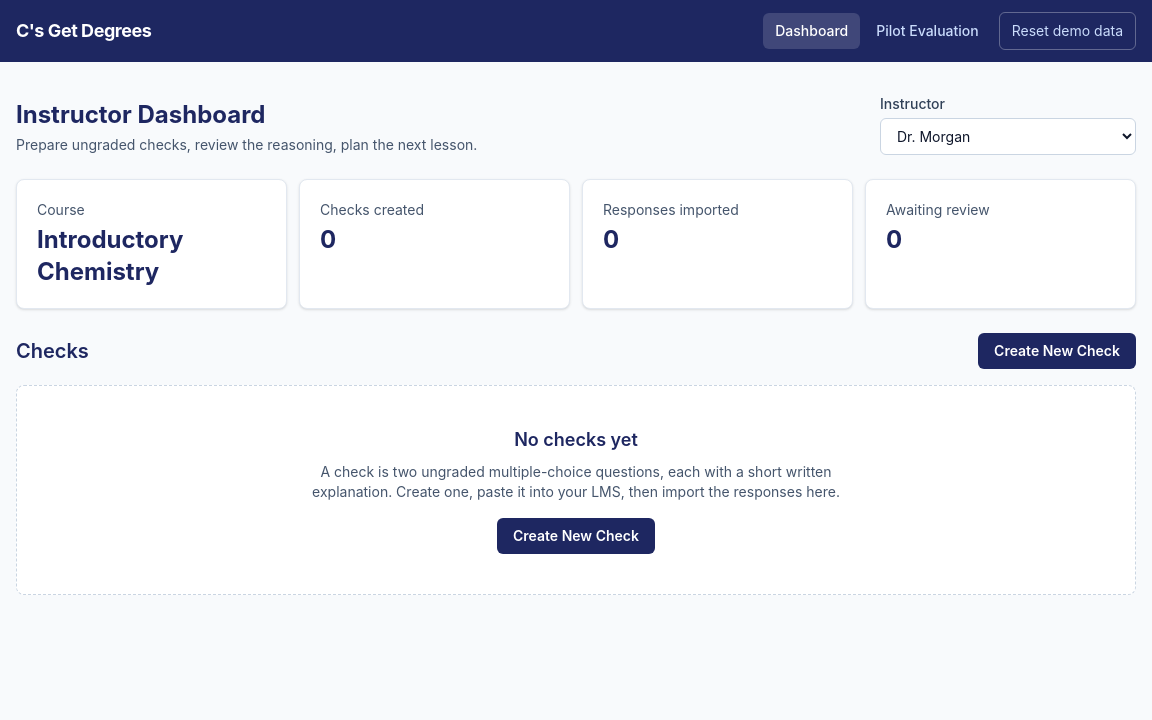
Scenario: Reset demo data asks for confirmation, then restores seed
Click the button "Reset demo data": (1067, 31) x1=999 y1=12 x2=1136 y2=50
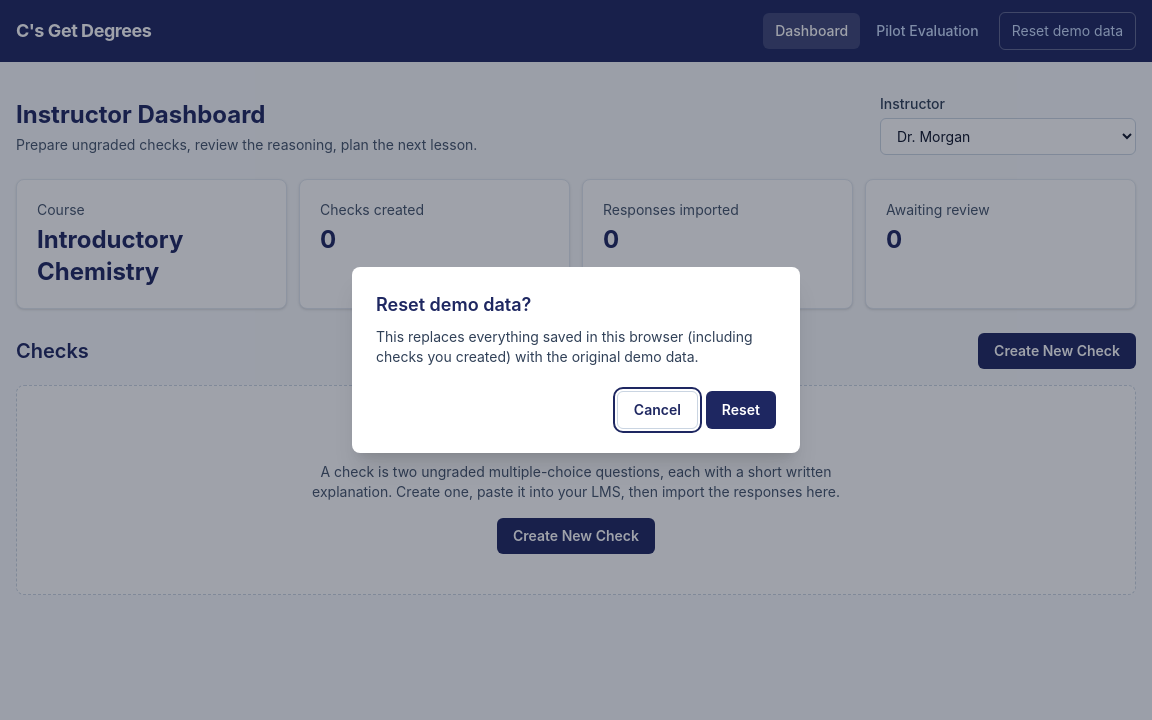
Click the button "Cancel": (657, 410) x1=617 y1=391 x2=698 y2=429
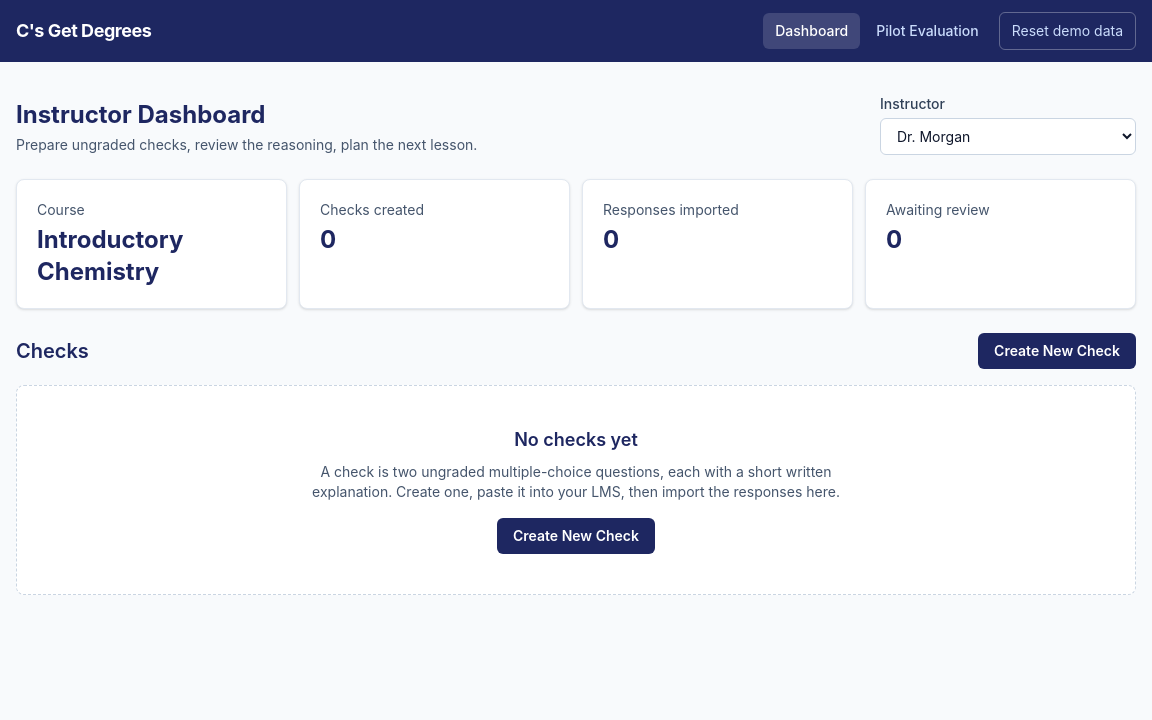
Expected: the heading "No checks yet" is shown, x1=514 y1=429 x2=638 y2=450
Click the button "Reset demo data": (1067, 31) x1=999 y1=12 x2=1136 y2=50
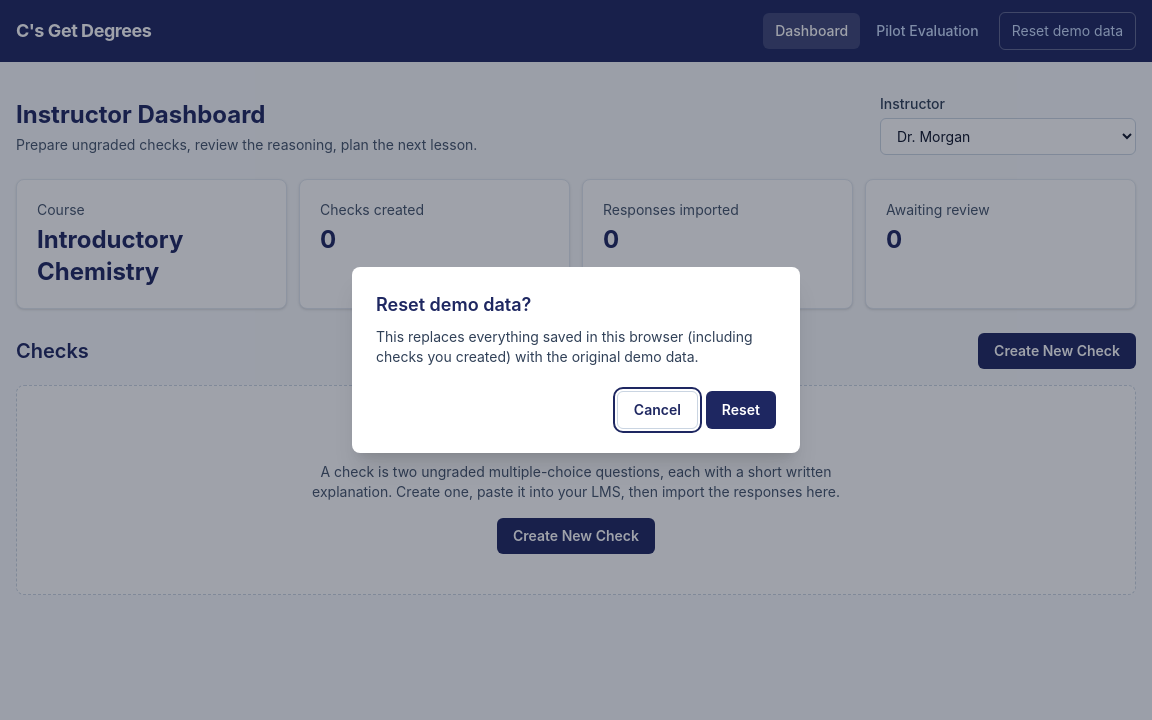
Click the button "Reset": (741, 410) x1=706 y1=391 x2=776 y2=429
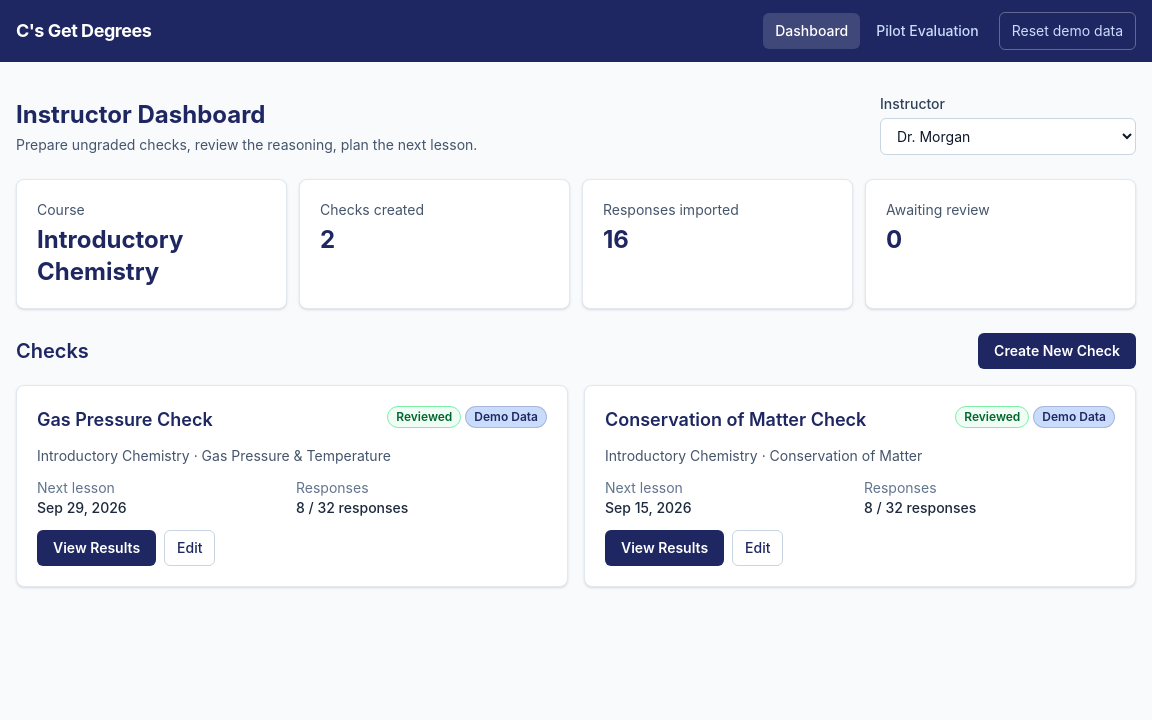
Expected: the dialog is gone
Expected: the heading "Conservation of Matter Check" is shown, x1=605 y1=406 x2=866 y2=434
